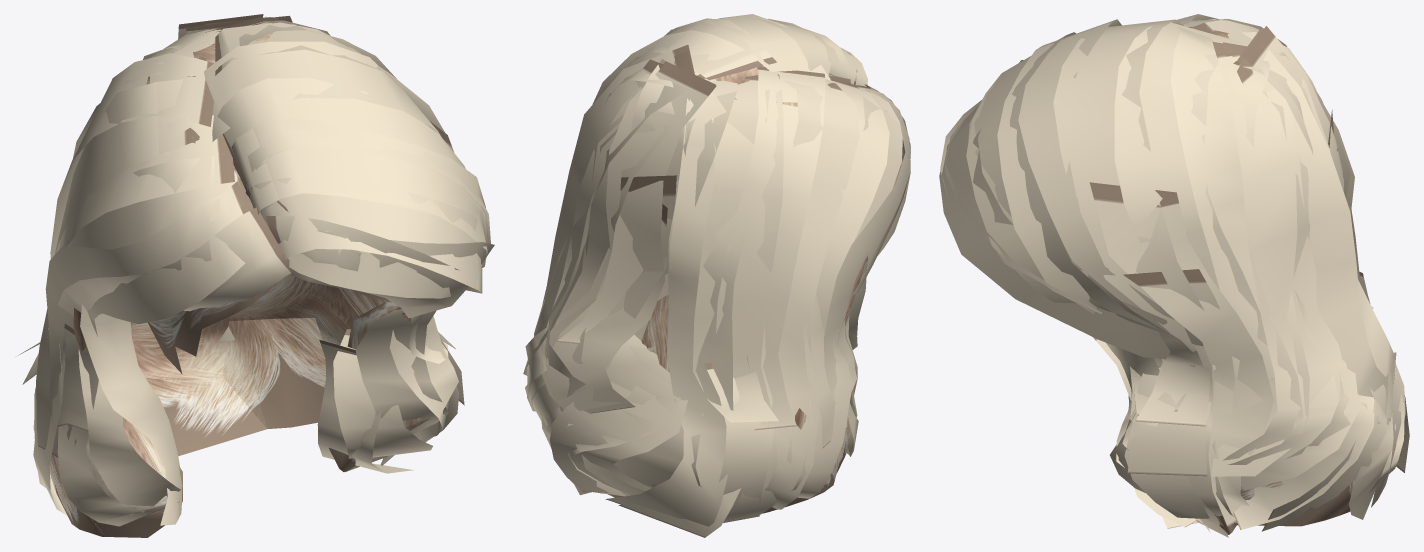
The model's file is hair_006.obj.
The picture shows the model from 3 angles, left to right: view 1: azimuth 30°, elevation 25°; view 2: azimuth 150°, elevation 25°; view 3: azimuth 270°, elevation 25°; orthographic projection. The views are drawn at different scales.
Size of the model in its own units: 22.7 by 29.17 by 26.82.
